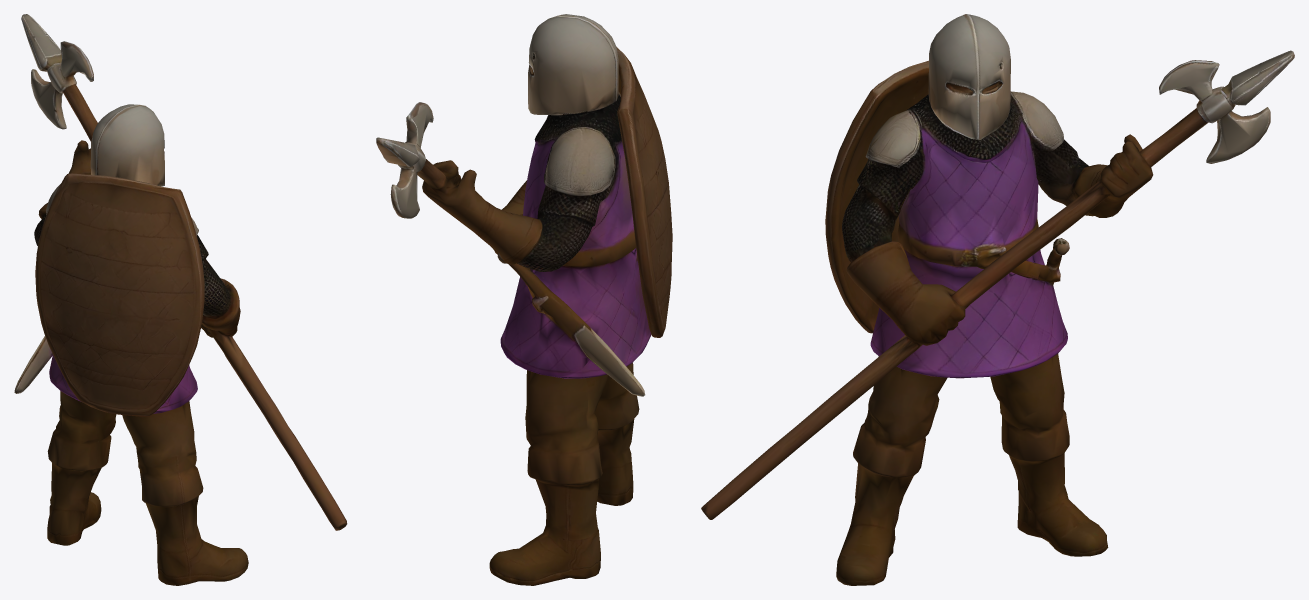
3 views of the same model, side by side, from view 1: azimuth 30°, elevation 25°; view 2: azimuth 150°, elevation 25°; view 3: azimuth 270°, elevation 25° (orthographic). The views are drawn at different scales.
Parts seen in each view (by area): view 1: tripo_node_032e3f8d-7858-479a-8496-7bc438e63b92; view 2: tripo_node_032e3f8d-7858-479a-8496-7bc438e63b92; view 3: tripo_node_032e3f8d-7858-479a-8496-7bc438e63b92.
Part boxes in pixels (bbox=[...]): tripo_node_032e3f8d-7858-479a-8496-7bc438e63b92: bbox=[14, 14, 347, 585]; tripo_node_032e3f8d-7858-479a-8496-7bc438e63b92: bbox=[376, 14, 672, 585]; tripo_node_032e3f8d-7858-479a-8496-7bc438e63b92: bbox=[701, 14, 1294, 585].
Size of the model in its own units: 0.4581 by 0.9903 by 0.9999.
Materials: 1 (1 with a texture image).
